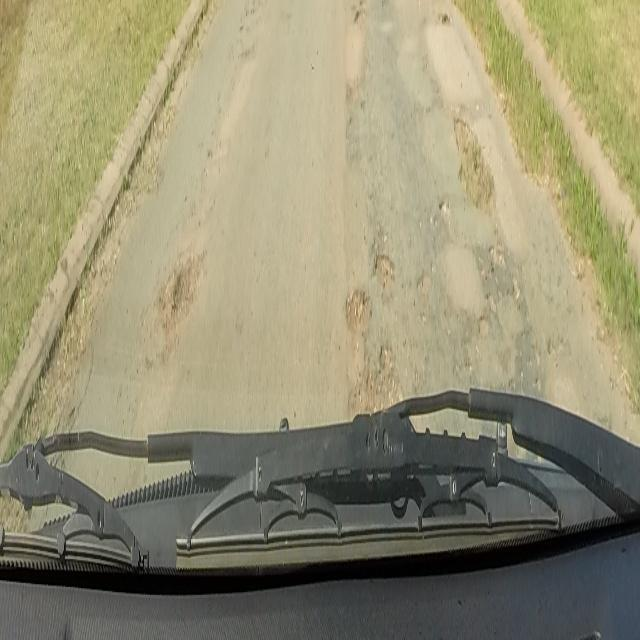pothole: (452, 108, 494, 212), (170, 250, 203, 316), (344, 284, 372, 334), (373, 250, 395, 290), (353, 3, 366, 24), (441, 8, 452, 24)
